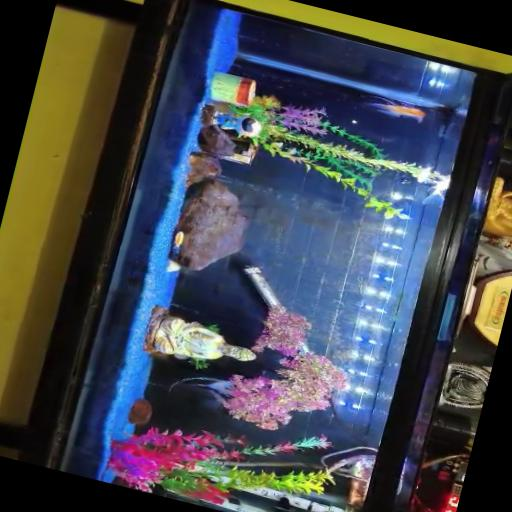Fish: (168, 376, 232, 403), (367, 97, 424, 121), (422, 175, 450, 202), (173, 232, 183, 247)
